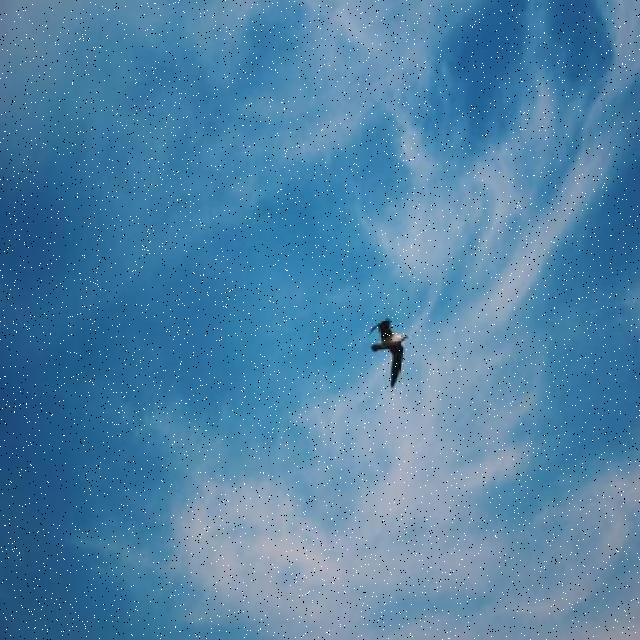bird: (366, 318, 408, 389)
